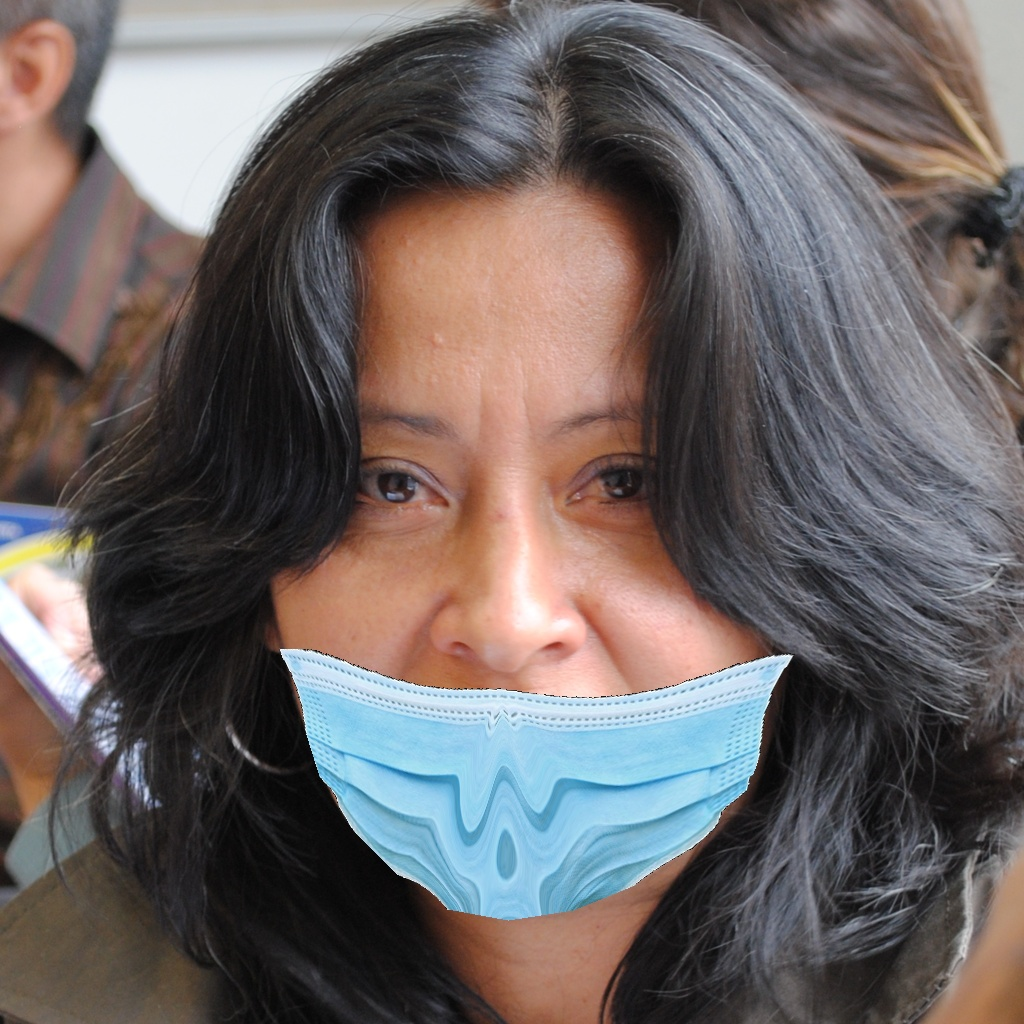mascarilla_mal_puesta: (207, 413, 832, 945)
